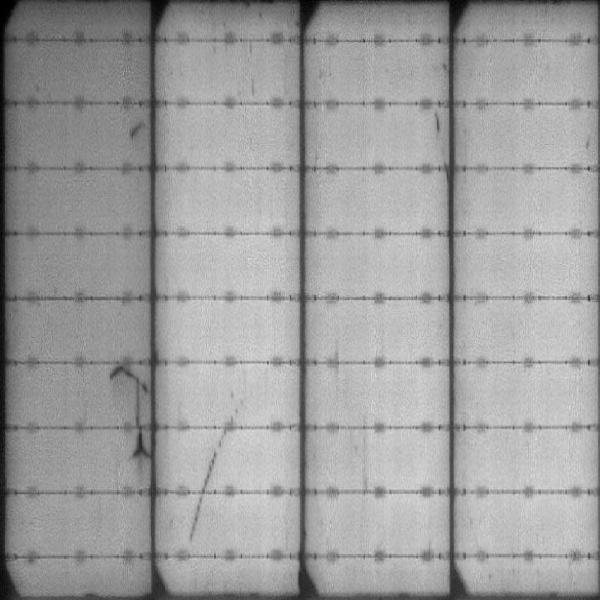scratch: (108, 370, 153, 463), (199, 430, 228, 490), (187, 494, 208, 535), (426, 108, 448, 141)
